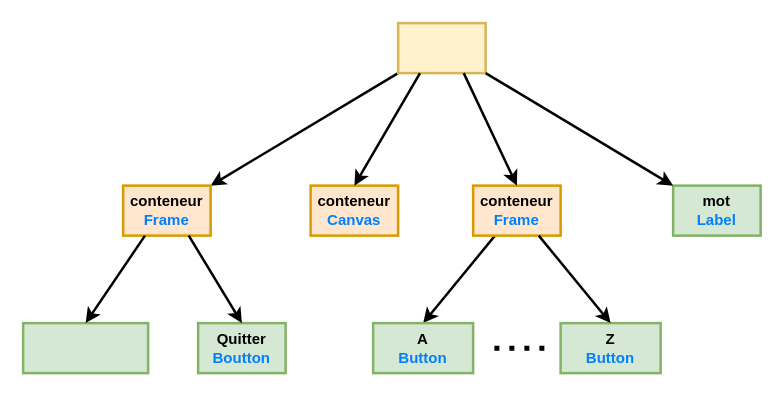
Some shapes in this 783 by 395 pixel diagram are drawn without their labels. Here are the shapes that lost their labels. From the top down, the centre of each, then its label:
At point (441, 47): "racine Tk".
At point (85, 347): "Nouvelle partie Button".
